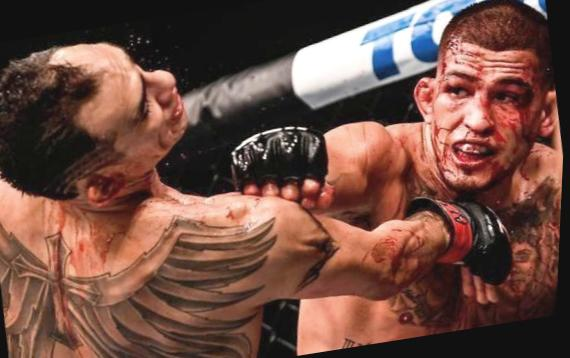Fire: (395, 30, 563, 335), (37, 167, 200, 358), (332, 211, 454, 288), (208, 192, 308, 227)
